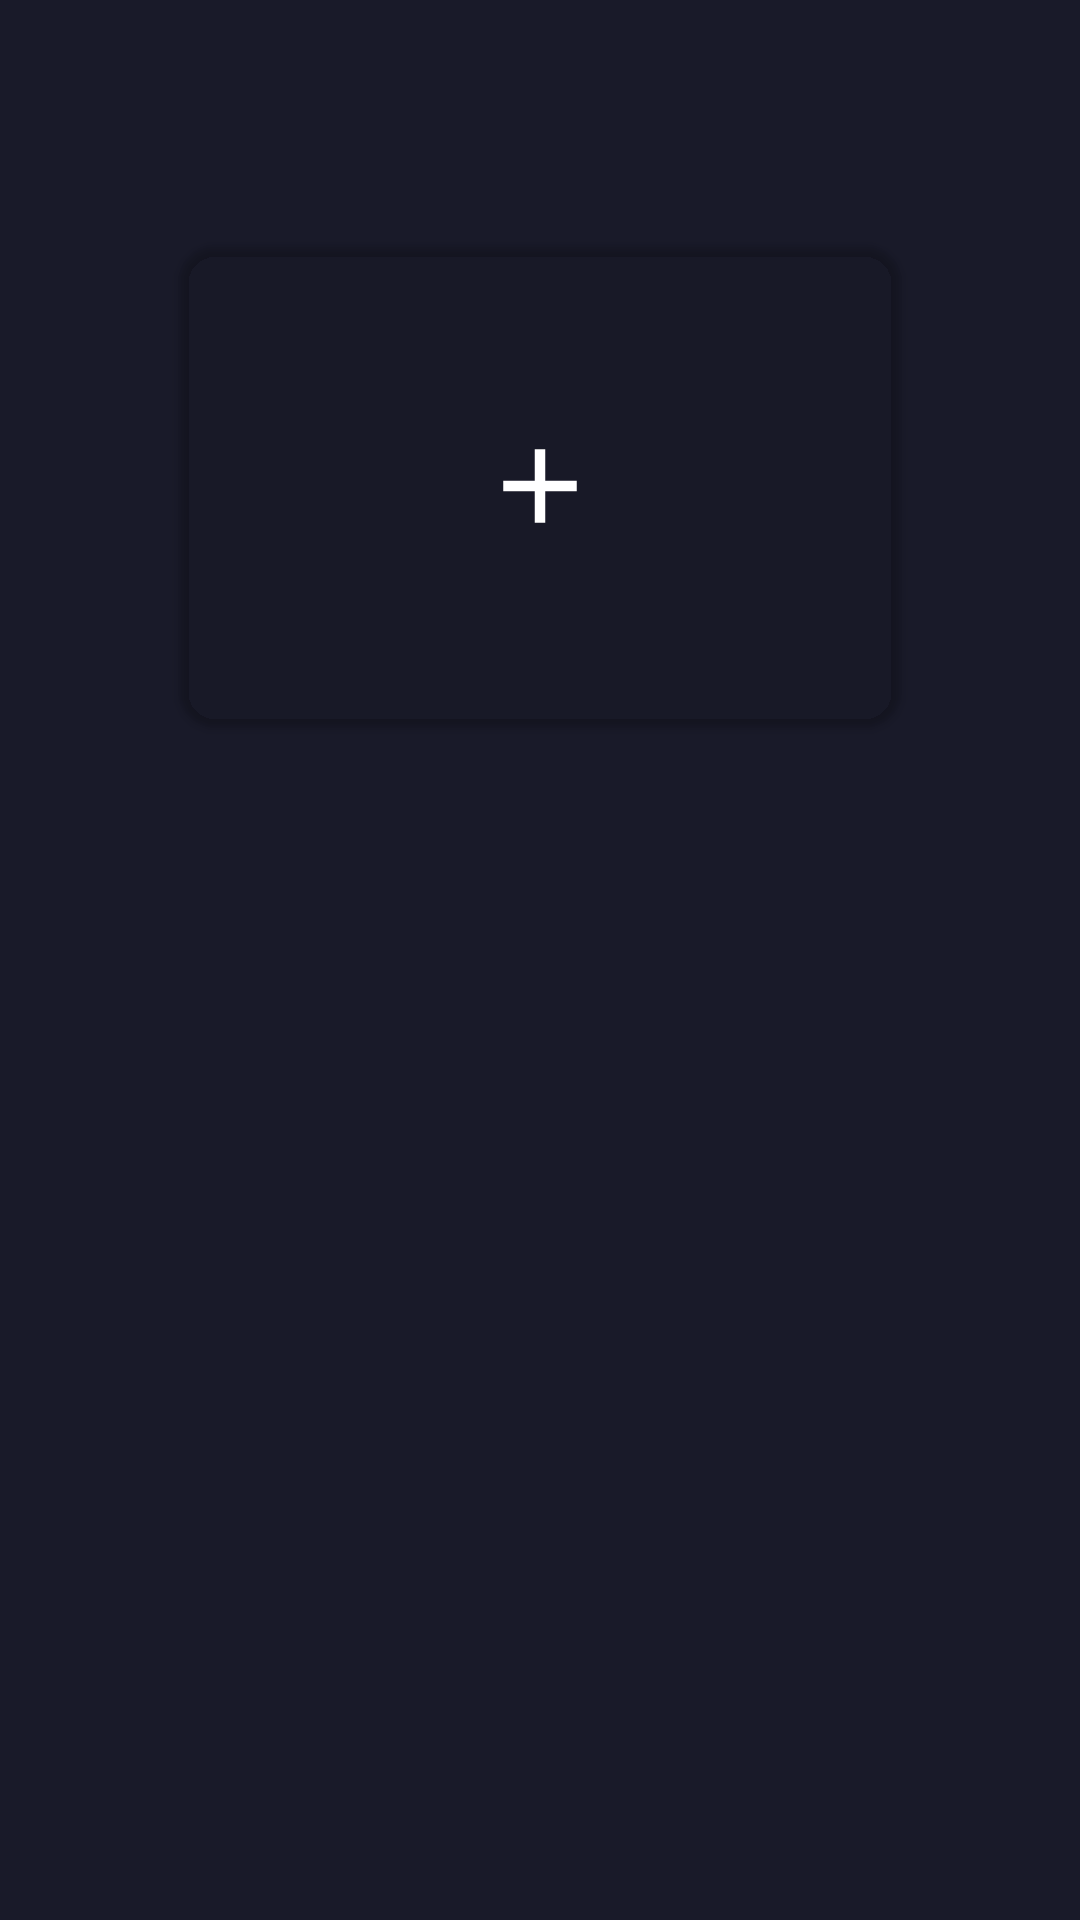

Icons on this 1080 x 1920 Android screen, each with the point to tap as [x,y]:
add: [540,486]
